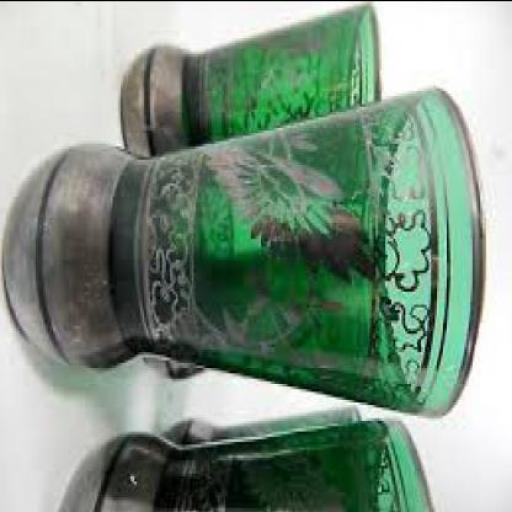glass: (2, 87, 488, 420), (121, 3, 384, 158), (60, 432, 441, 511), (164, 412, 368, 451)
